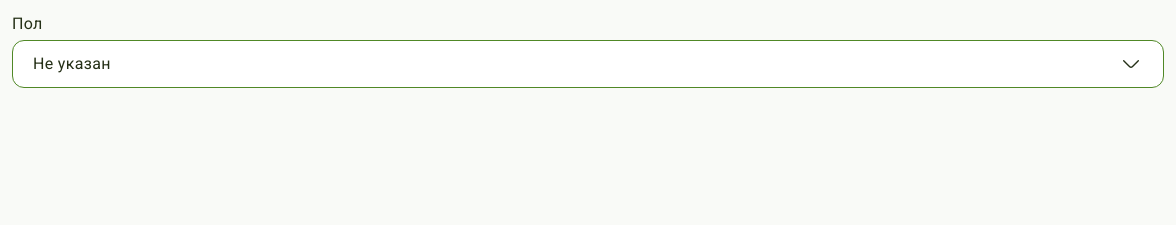
Test: Select › выбирает вариант мышью и возвращает фокус на поле
The width and height of the screenshot is (1176, 225).
Click the dropdown named "Пол" at (72, 64), box [12, 40, 1164, 88]
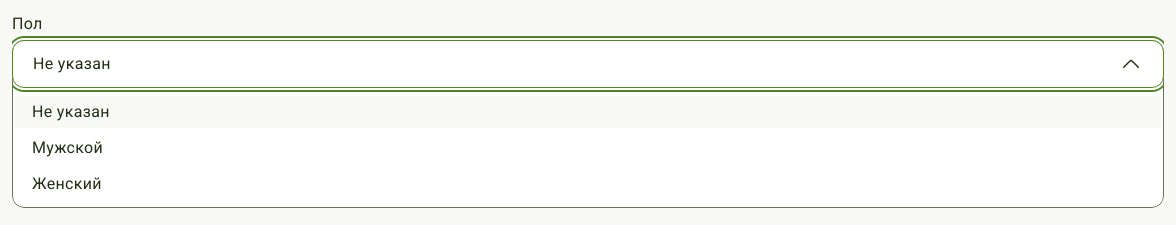
Click the option "Женский" at (67, 184), box [32, 174, 102, 193]
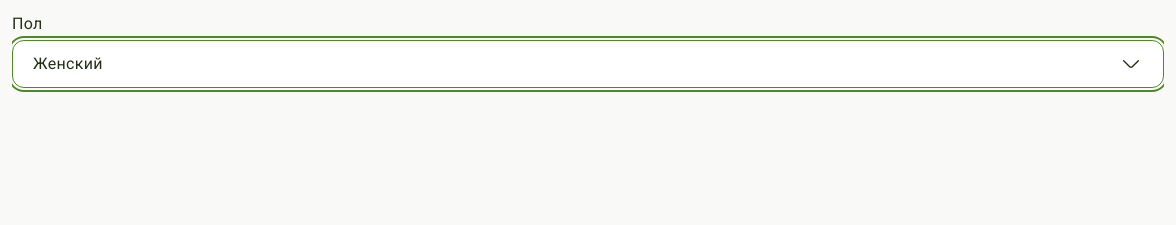
Expected: the dropdown named "Пол" reads "Женский", [12, 40, 1164, 88]
Expected: the list is gone
